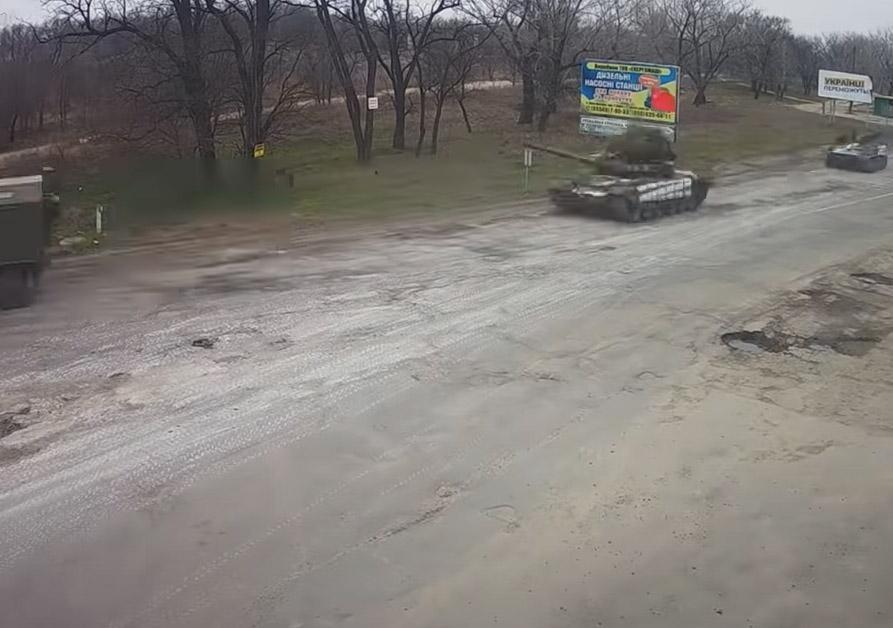tank: (523, 126, 712, 236), (825, 134, 893, 174)
truck: (0, 170, 53, 308)
